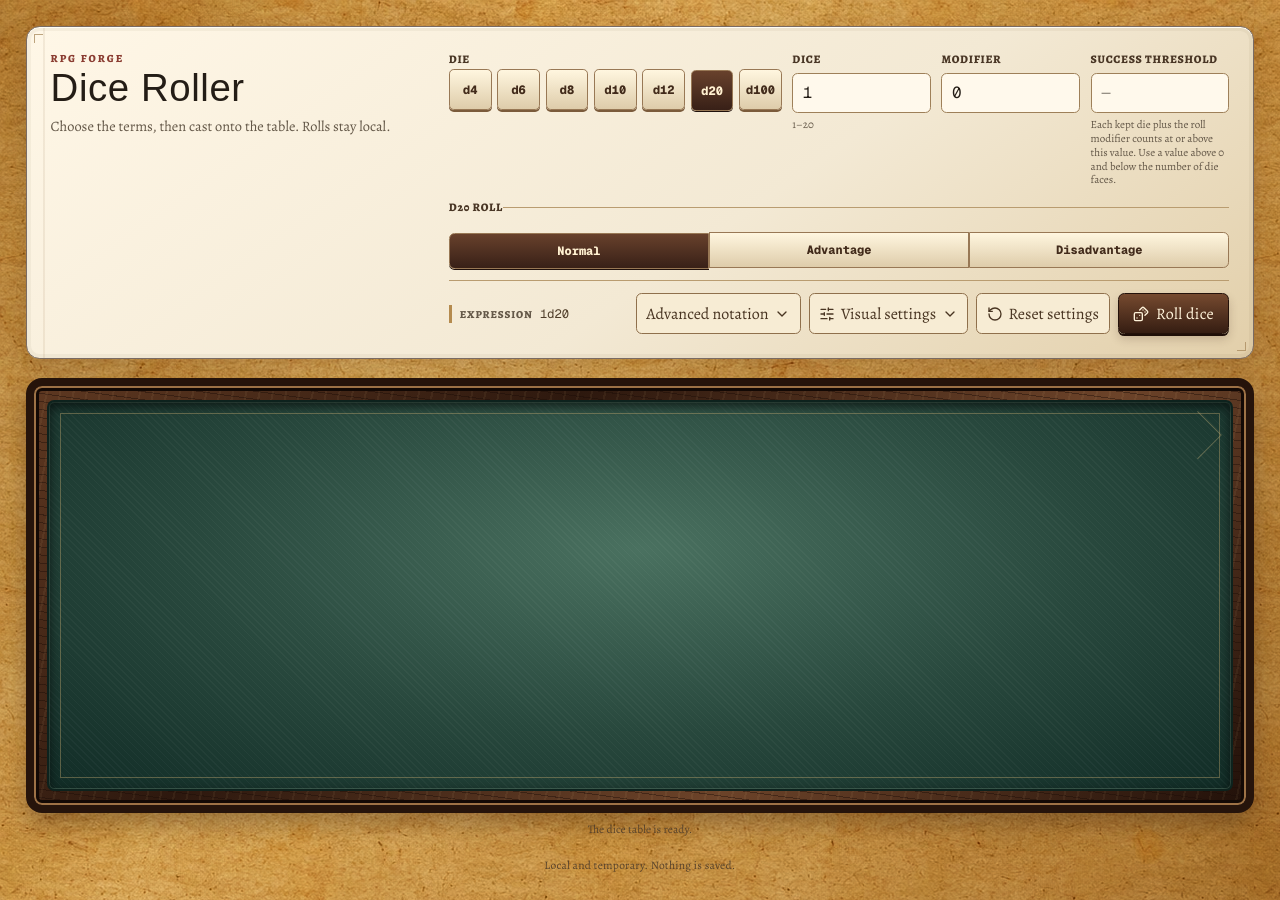
DiceRoller › resets configuration settings to their defaults
Click the button "d6".
click(519, 90)  # box [497,70,540,110]
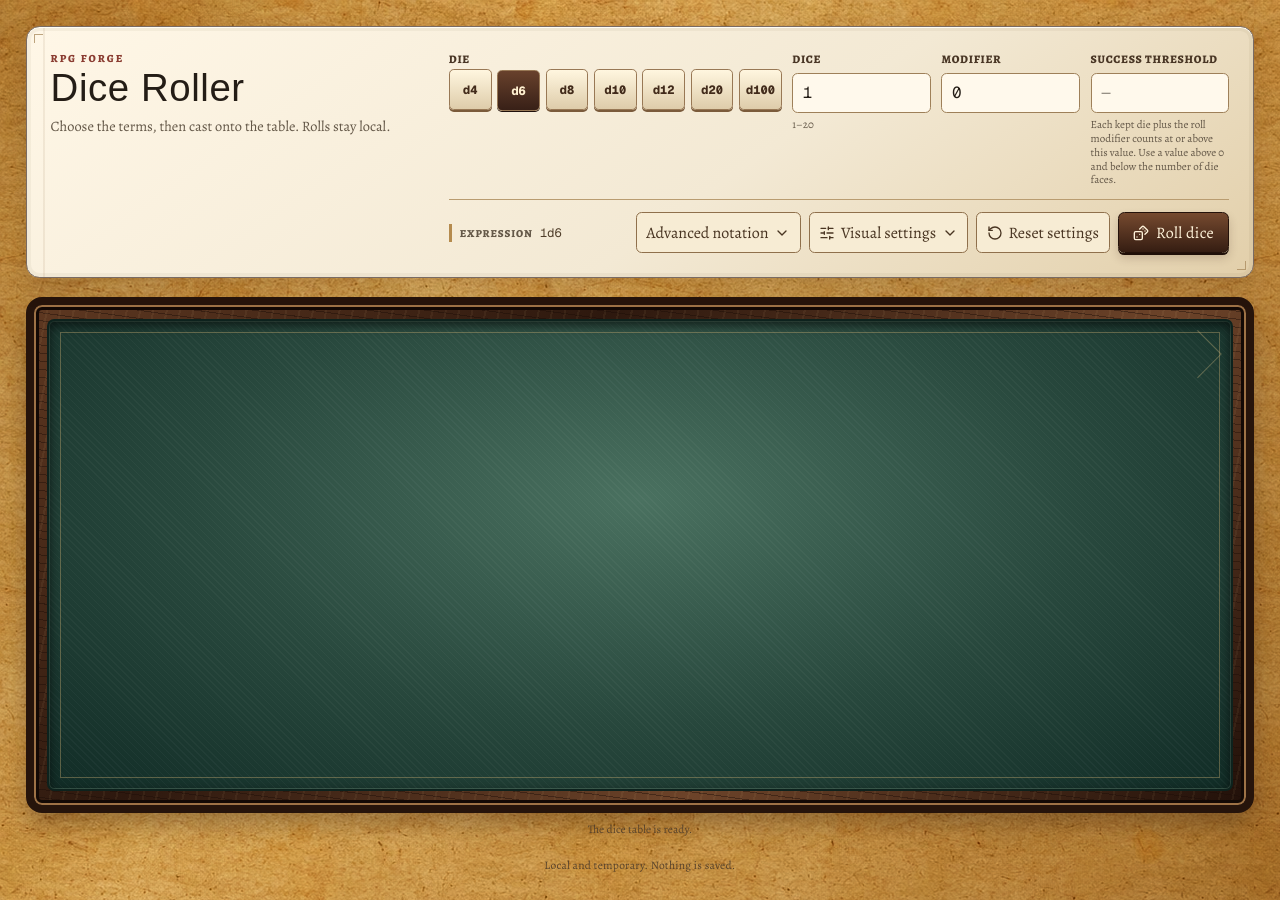
Replace the text in the number field labelled "Dice" with "8" at (862, 93), box [792,73,931,114]
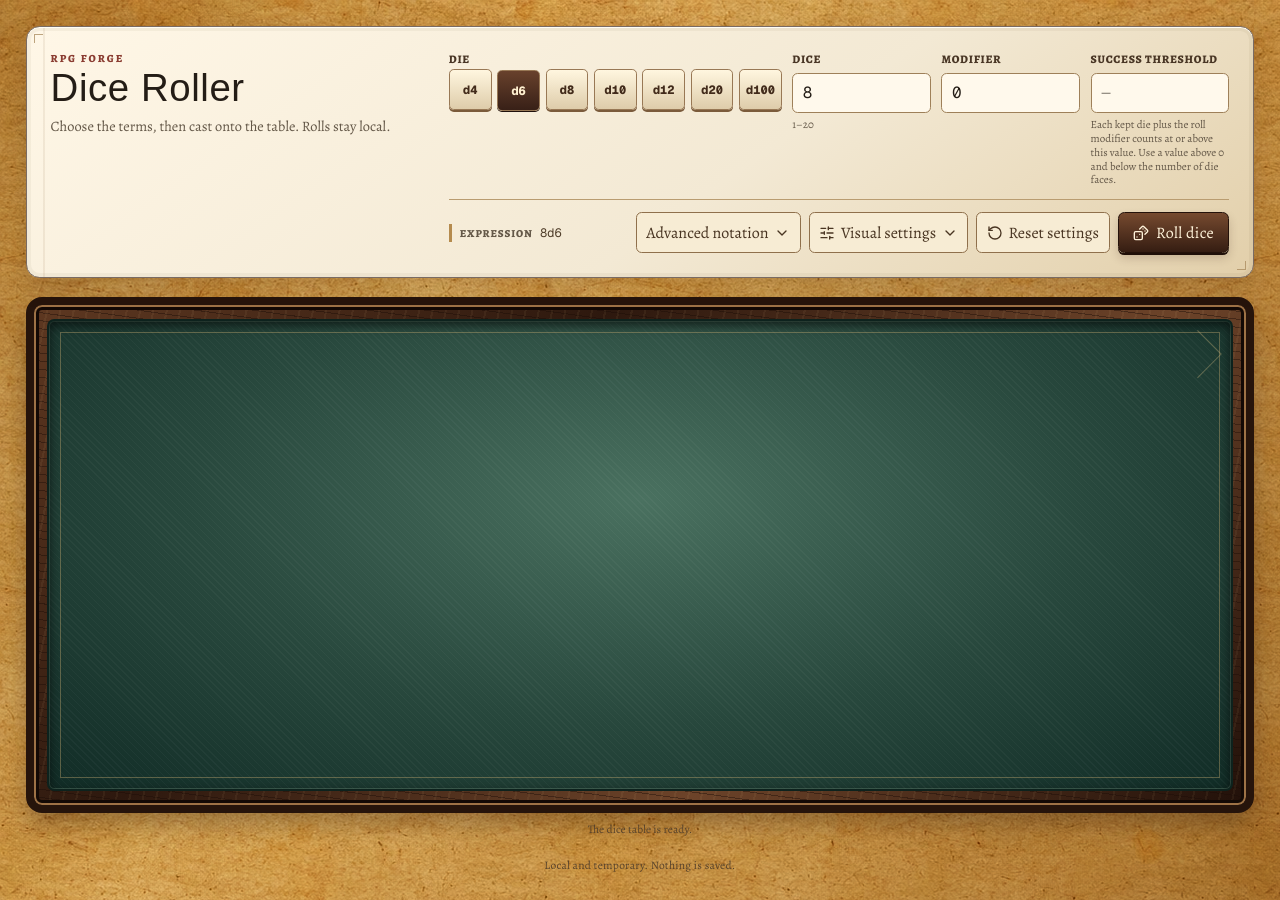
Replace the text in the number field labelled "Modifier" with "3" at (1011, 93), box [941,73,1080,114]
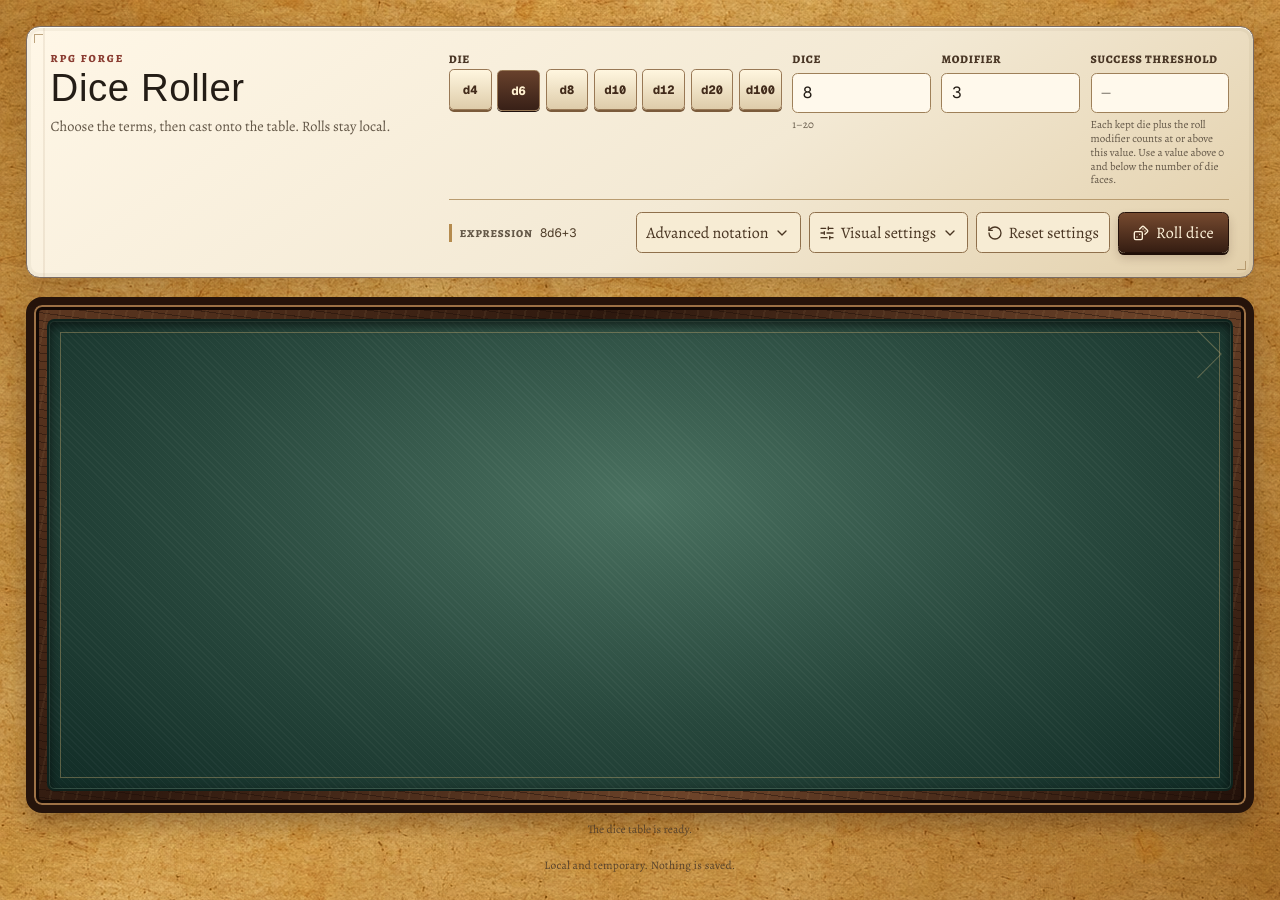
Click the button "Advanced notation".
click(718, 233)  # box [636,212,801,253]
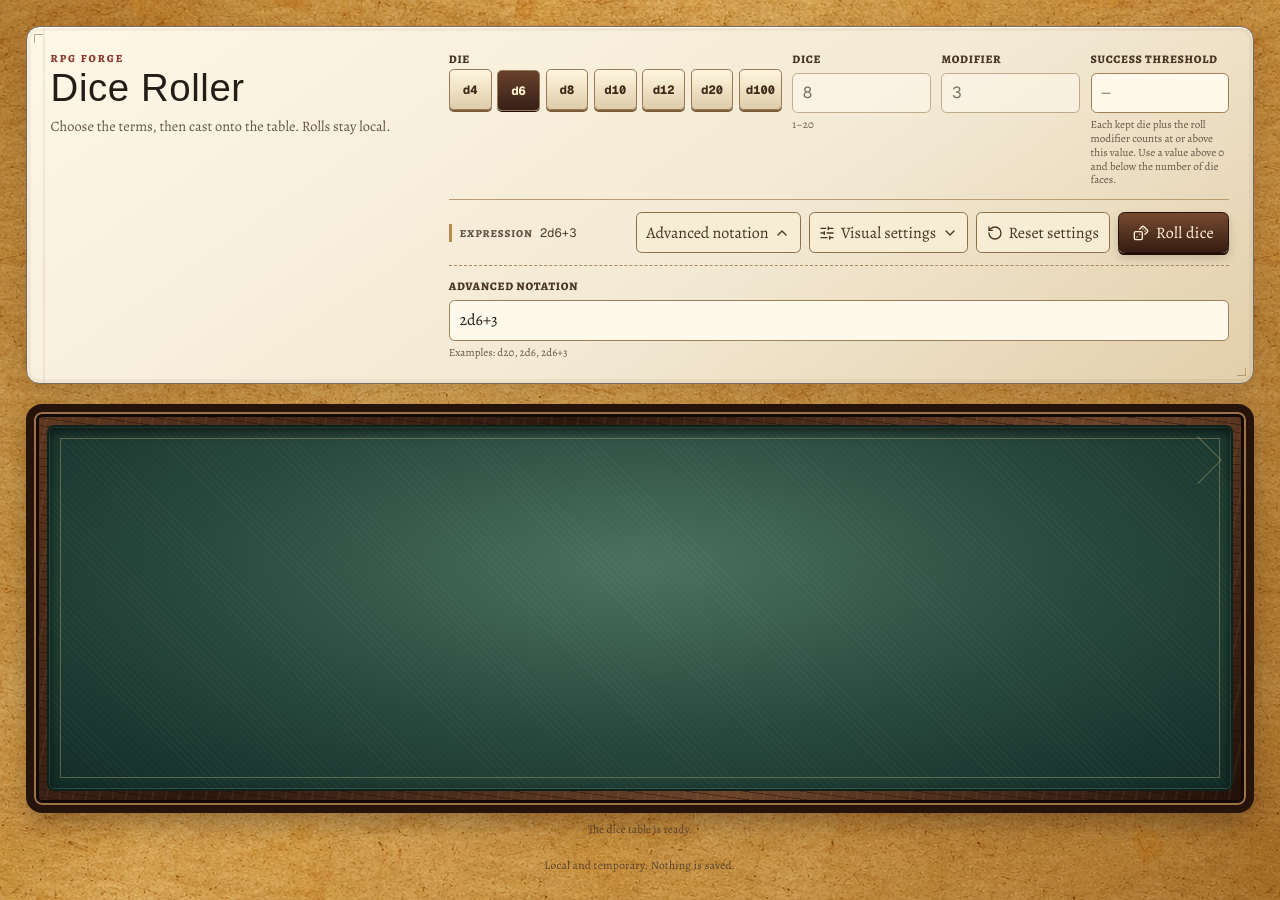
Click the button "Visual settings".
click(889, 233)  # box [809,212,968,253]
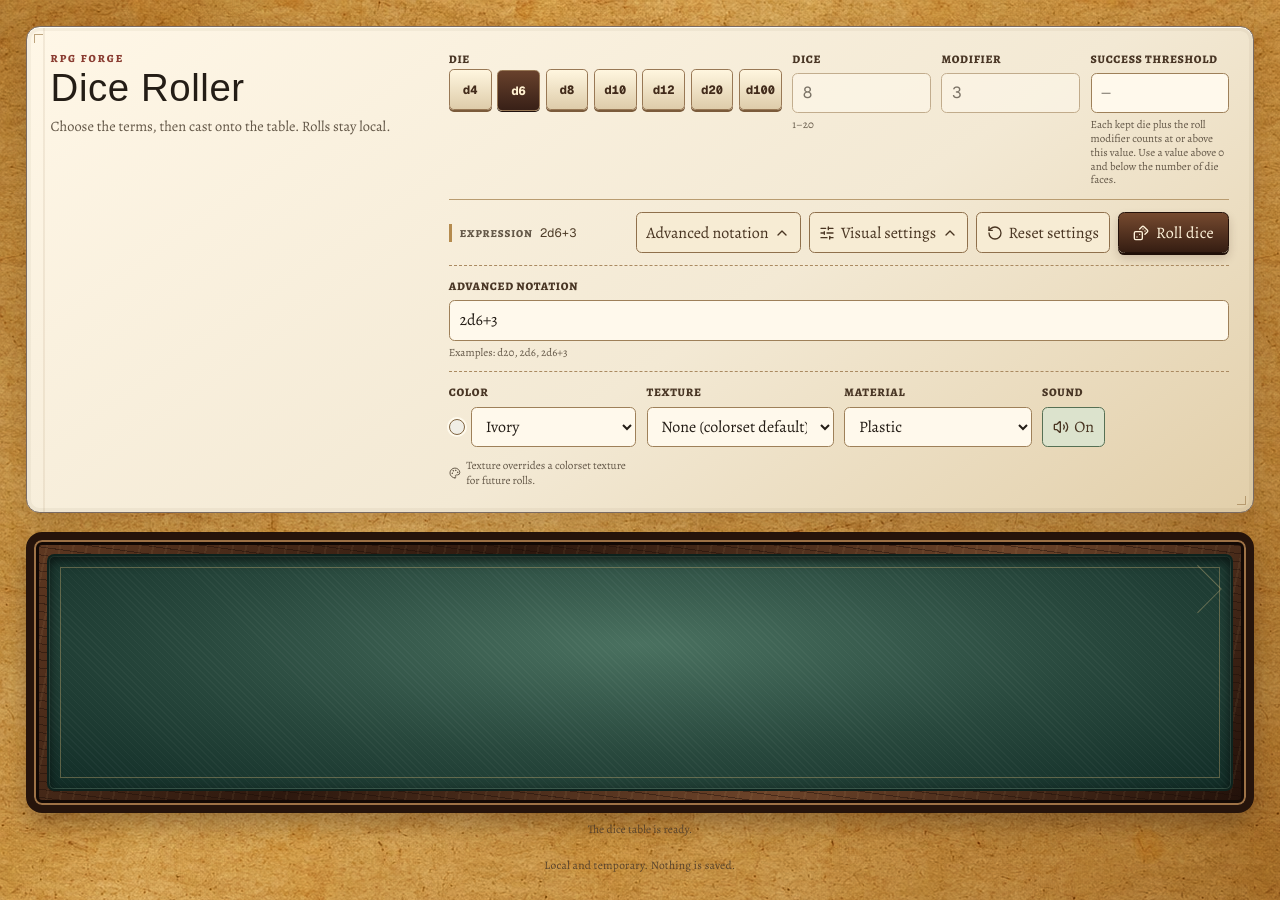
Click the button "Reset settings".
click(1043, 233)  # box [976,212,1110,253]
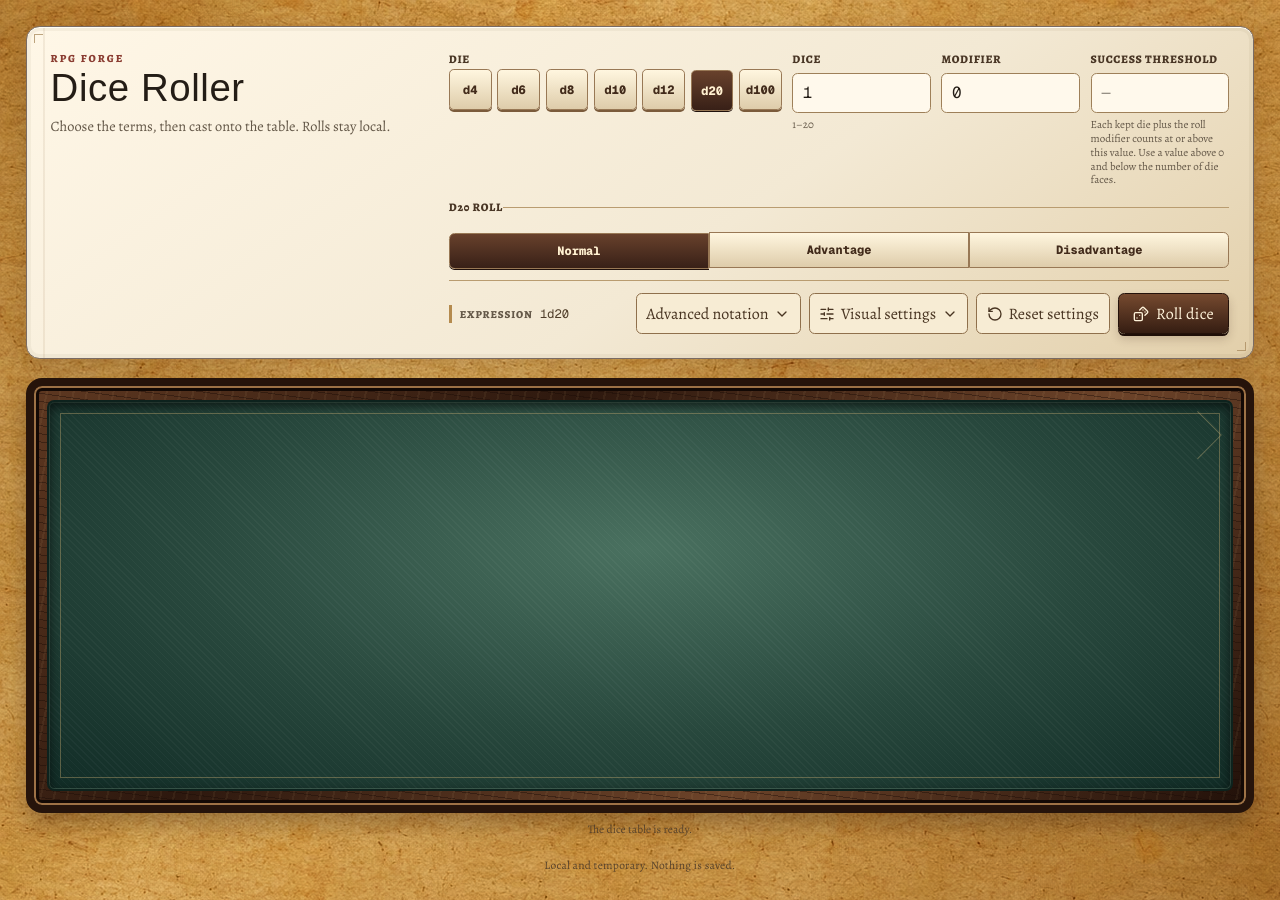
Expected: the number field labelled "Dice" holds "1", [792,73,931,114]
Expected: the number field labelled "Modifier" holds "0", [941,73,1080,114]
Expected: the button "Advanced notation" is collapsed, [636,294,801,334]
